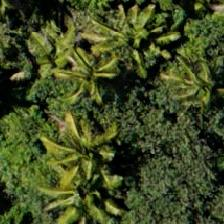Kelapa_Sawit: (47, 38, 137, 128), (44, 28, 134, 118), (40, 103, 130, 193), (89, 0, 179, 82), (40, 153, 131, 223), (158, 47, 223, 138), (8, 167, 99, 223), (151, 0, 223, 58)
